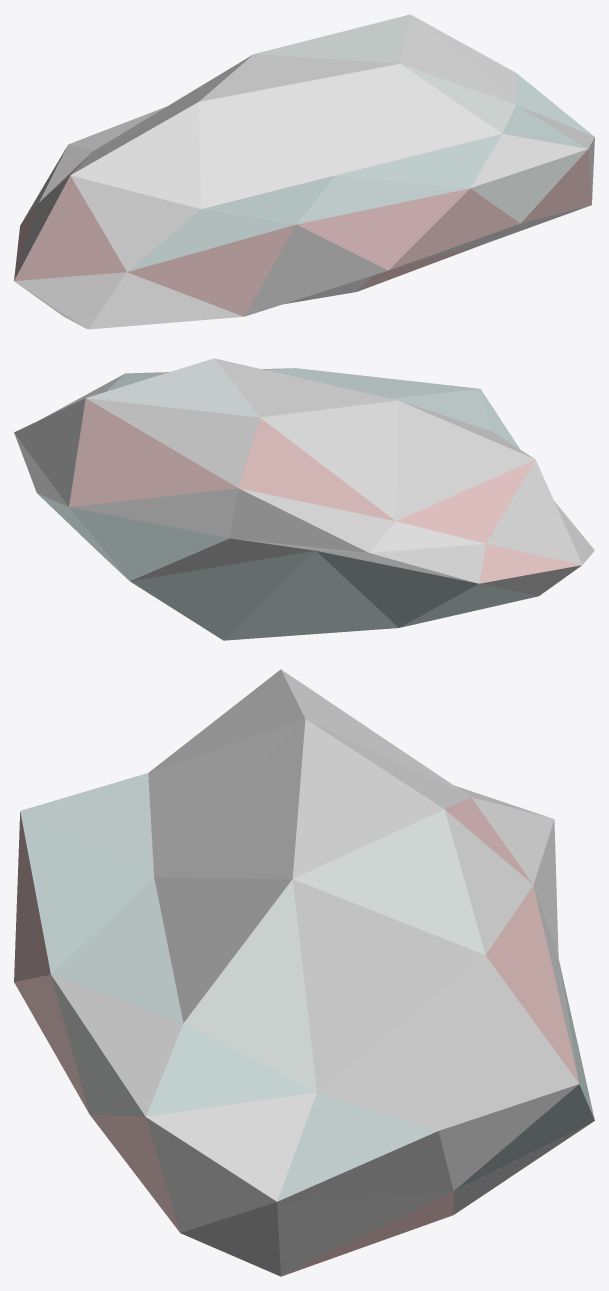
File: cloud3.fbx
3 renders of one model, top to bottom at view 1: azimuth 30°, elevation 25°; view 2: azimuth 150°, elevation 25°; view 3: azimuth 270°, elevation 25°, orthographic. The views are drawn at different scales.
Parts seen in each view (by area): view 1: cloud03:Mesh; view 2: cloud03:Mesh; view 3: cloud03:Mesh.
Part boxes in pixels (x1=…): cloud03:Mesh: x1=14, y1=14, x2=594, y2=329; cloud03:Mesh: x1=14, y1=358, x2=594, y2=640; cloud03:Mesh: x1=14, y1=669, x2=594, y2=1276.
Size of the model in its own units: 20.95 by 8.04 by 11.81.
